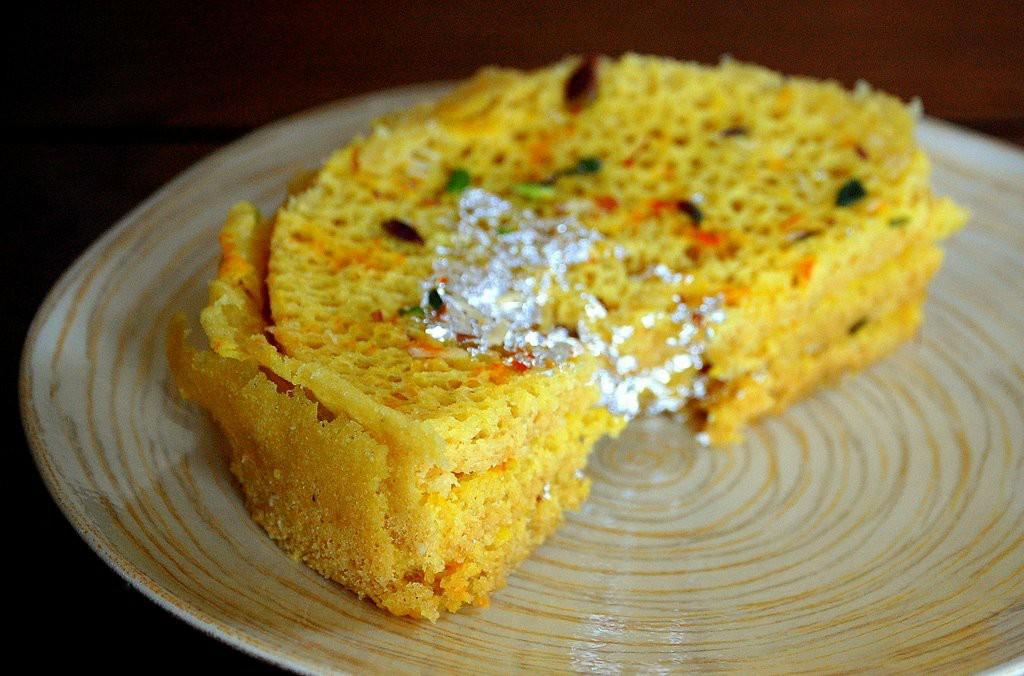Ghevar: (169, 48, 975, 627)
